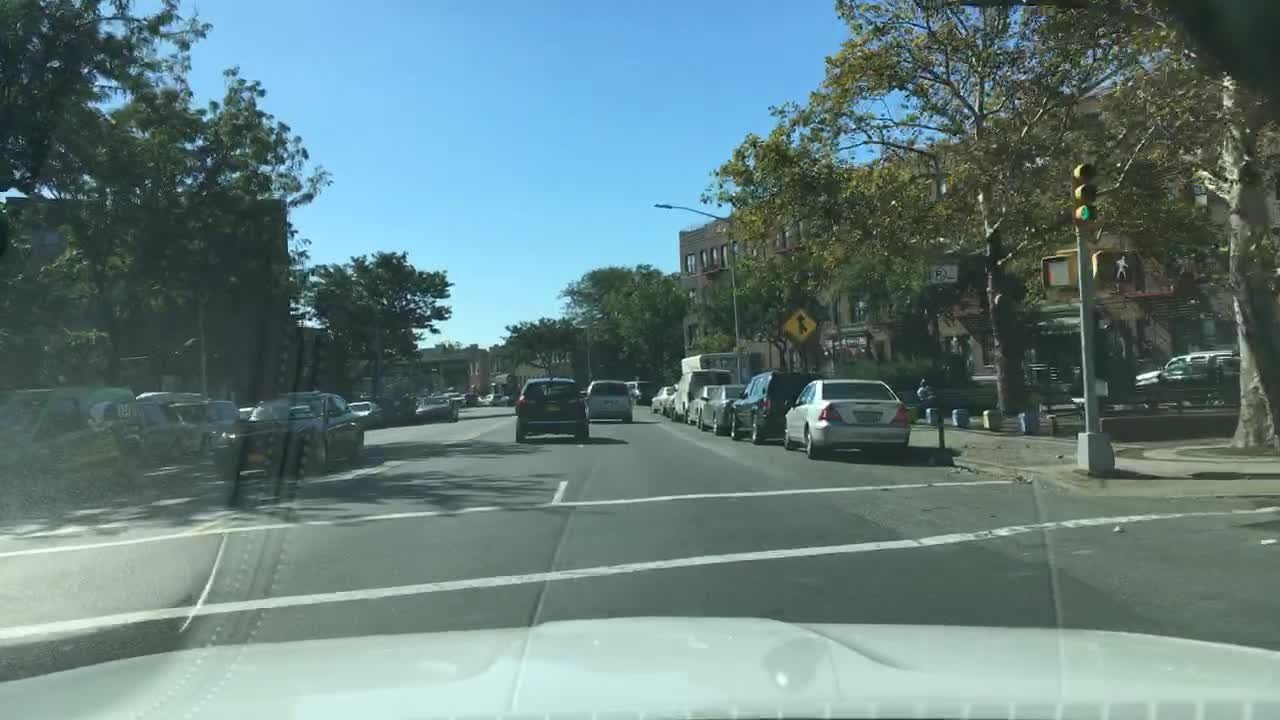car: (1, 386, 143, 494), (214, 388, 361, 476), (786, 380, 908, 456), (733, 371, 822, 447), (137, 390, 212, 462), (512, 378, 591, 442), (1160, 350, 1244, 391), (671, 370, 734, 422), (583, 381, 635, 421), (203, 398, 242, 451), (704, 386, 742, 436), (410, 396, 464, 424), (687, 383, 709, 430), (351, 401, 386, 426), (626, 379, 656, 405), (650, 386, 677, 411), (481, 391, 511, 410), (238, 403, 254, 422), (461, 391, 480, 406)
person: (914, 378, 935, 417)
traffic light: (1069, 160, 1098, 222), (1098, 252, 1135, 283), (1040, 257, 1075, 288)
traffic sign: (783, 306, 816, 341), (928, 263, 958, 284)
